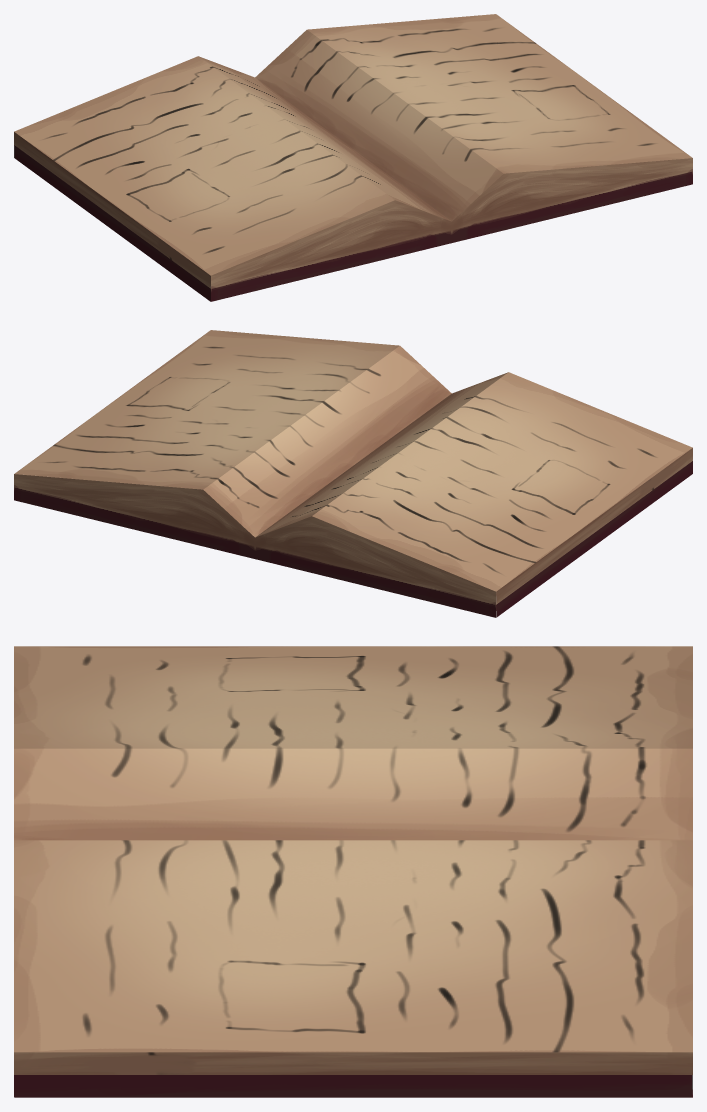
Rendered from Book01.fbx.
3 renders of one model, top to bottom at view 1: azimuth 30°, elevation 25°; view 2: azimuth 150°, elevation 25°; view 3: azimuth 270°, elevation 25°, orthographic. The views are drawn at different scales.
Parts seen in each view (by area): view 1: Book01; view 2: Book01; view 3: Book01.
Boxes of the visible parts, x1=… form: Book01: x1=14, y1=14, x2=692, y2=301; Book01: x1=14, y1=330, x2=692, y2=617; Book01: x1=14, y1=646, x2=692, y2=1097.
Size of the model in its own units: 0.4244 by 0.0478 by 0.3001.
Materials: 1 (1 with a texture image).
